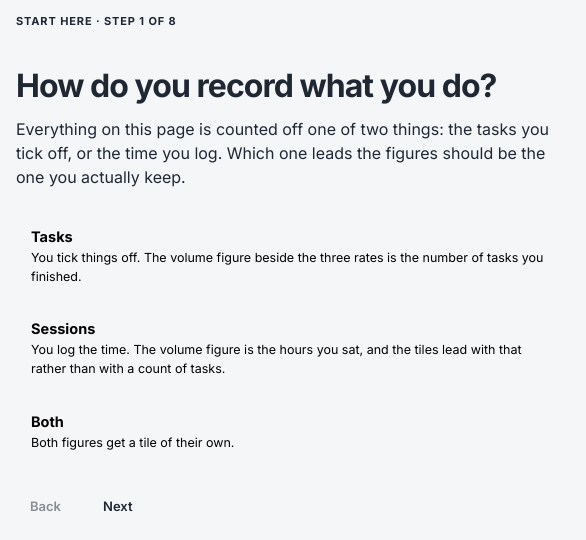
Test: the analytics question phase › does not offer a subject the account invented
Click the button "Next" at (118, 506), box [89,488,146,524]
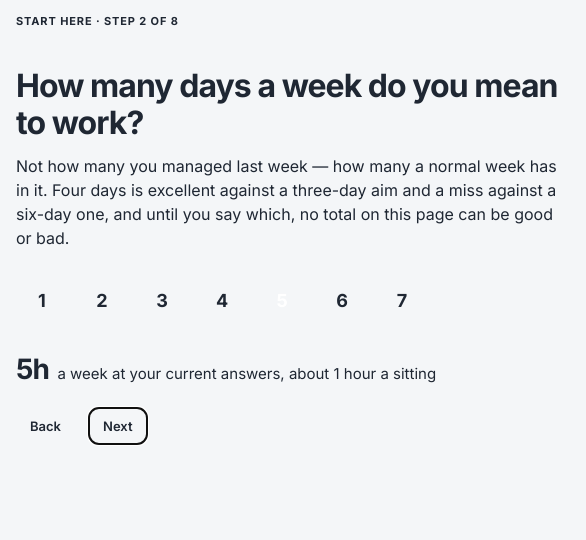
Click the button "Next" at (118, 426), box [89,408,146,444]
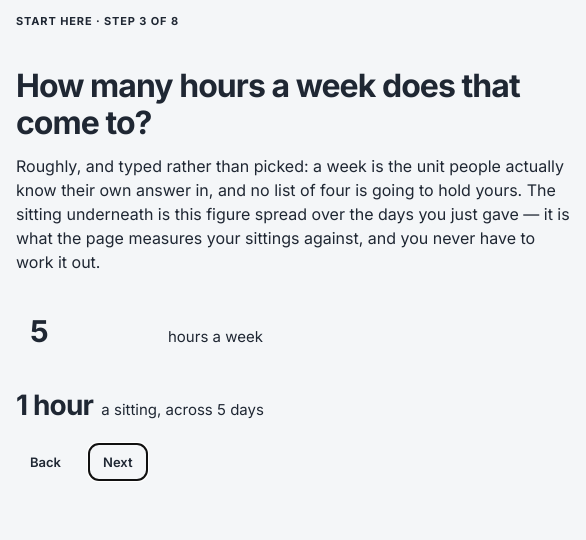
Click the button "Next" at (118, 462), box [89,444,146,480]
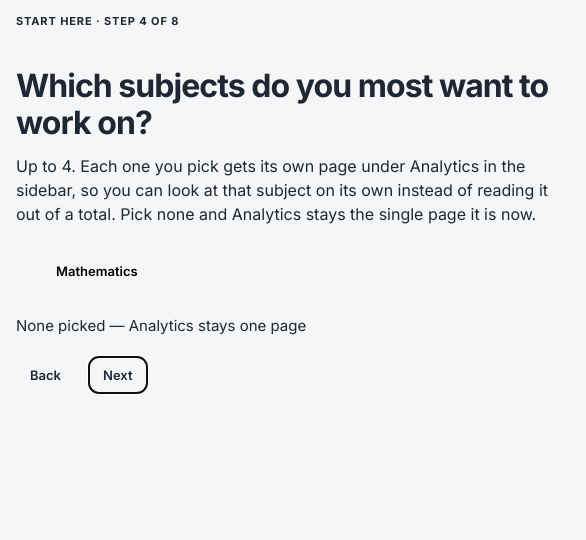
Result: the button "Mathematics" is shown at [16,252,197,290]
